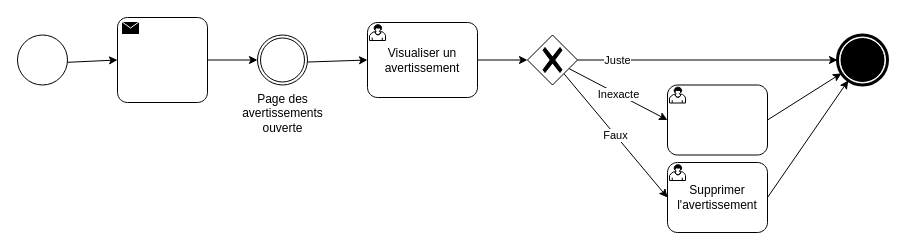
Image size: 905x250. Some labels were removed from this diagram. The shapes that lost their labels are listed below. From the top down, each one's box as (x1, y1, x2, y2) in pixels, then its label:
(116, 16, 208, 102): Envoyer mail à un Modérateur
(666, 84, 768, 155): Modifier l'avertissement
